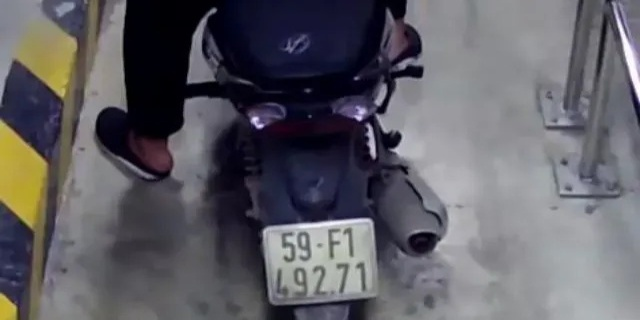bien_so: (262, 222, 382, 304)
